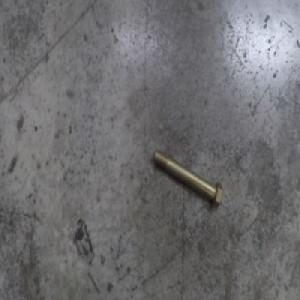Bolt: (152, 145, 223, 209)
